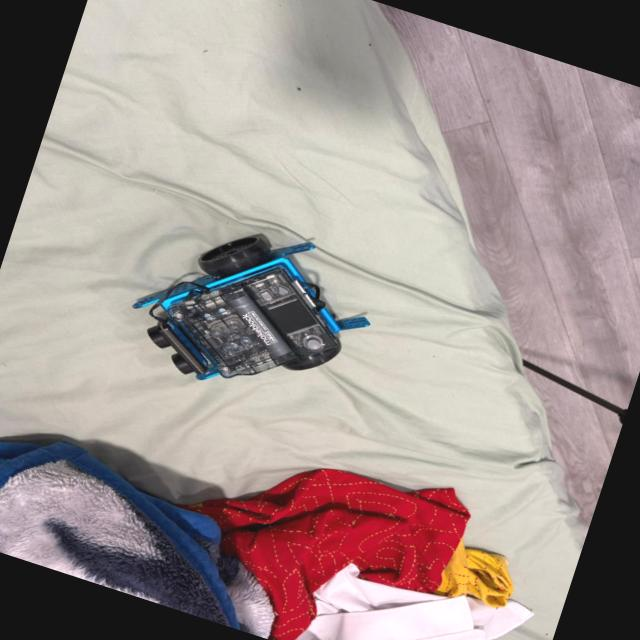mbot-detection: (105, 189, 404, 436)
